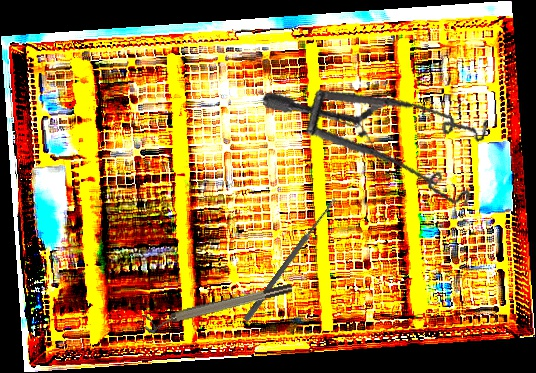Fixation Ring: (142, 280, 295, 336)
Speculum: (261, 56, 502, 238)
Surgical Spoon: (243, 196, 338, 323)
